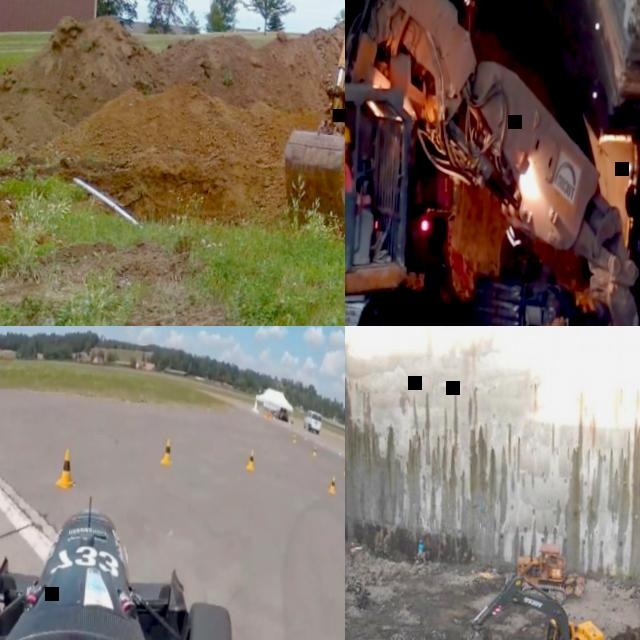Hardhat: (345, 124, 351, 143), (419, 538, 423, 542)
NO-Mask: (345, 144, 347, 153)
Person: (416, 536, 425, 557)
Safety Cone: (54, 444, 78, 491), (160, 436, 173, 467), (245, 446, 256, 471), (328, 473, 338, 493), (312, 443, 318, 455), (293, 430, 298, 441), (343, 461, 345, 475)
Safety Vest: (345, 150, 353, 190), (418, 543, 424, 553)
machinery: (345, 0, 640, 326), (280, 0, 345, 237), (463, 571, 615, 640), (504, 540, 569, 600)
vehicle: (0, 487, 270, 640), (303, 407, 322, 432)
